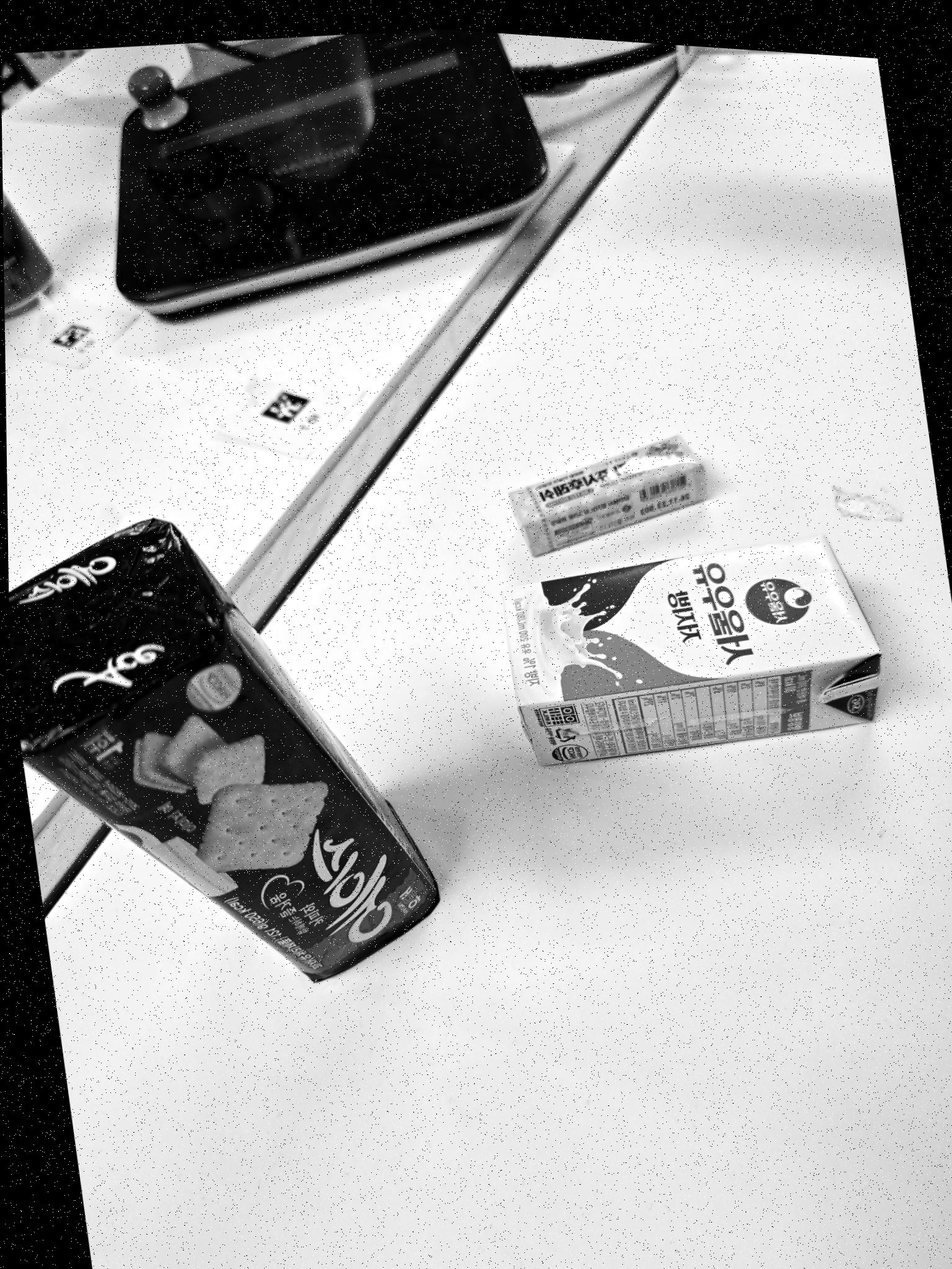cracker_ace: (9, 519, 440, 982)
gum_yellow: (510, 435, 706, 555)
milk_blue: (504, 536, 881, 764)
